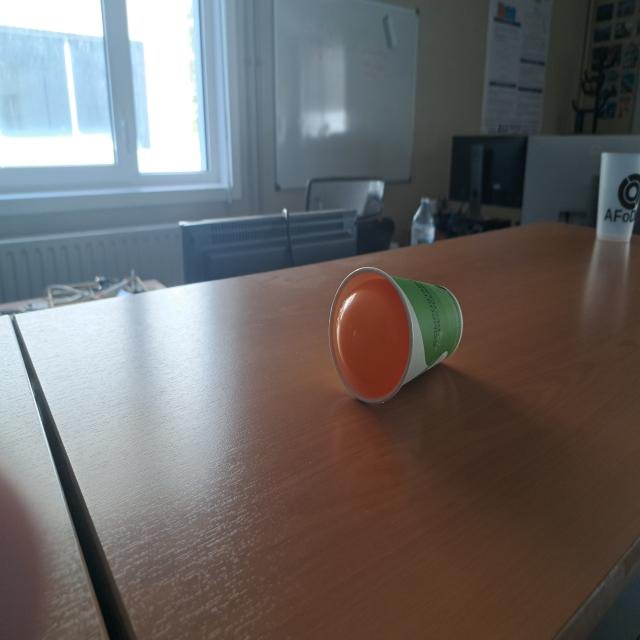orange: (334, 273, 411, 402)
